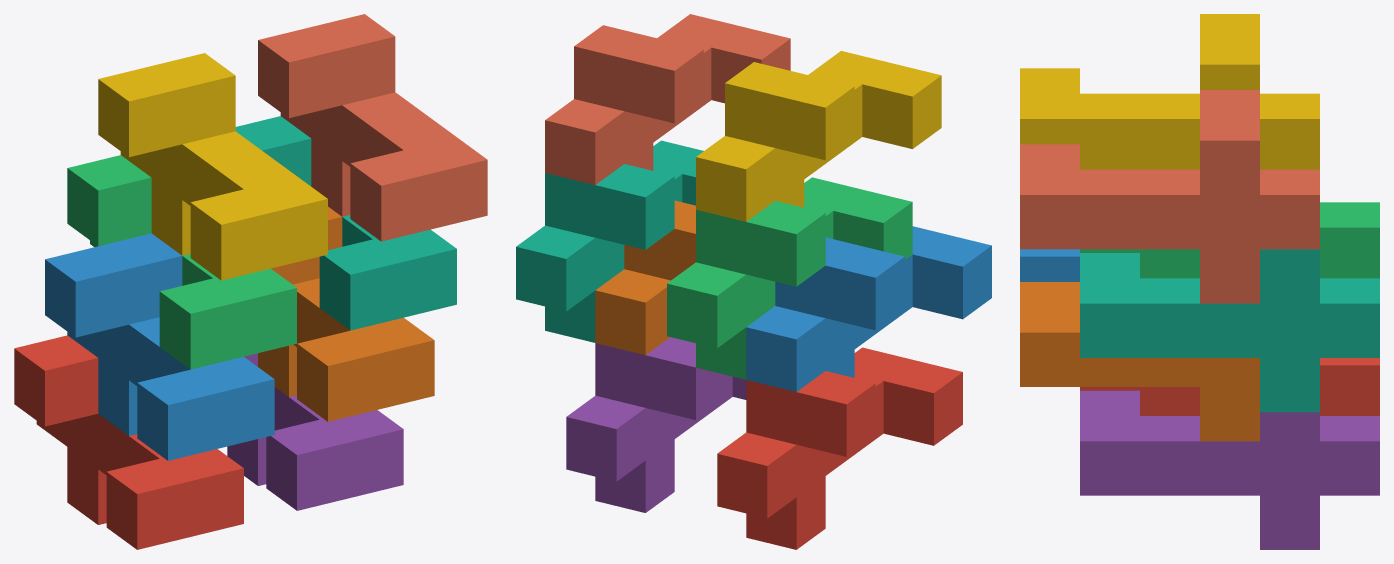
File: tiling.obj
3 renders of one model, left to right at view 1: azimuth 30°, elevation 25°; view 2: azimuth 150°, elevation 25°; view 3: azimuth 270°, elevation 25°, orthographic. The views are drawn at different scales.
Parts seen in each view (by area): view 1: copy_1_domain_4, copy_1_domain_8, copy_1_domain_2, copy_1_domain_1, copy_1_domain_3, copy_1_domain_6, copy_1_domain_7, copy_1_domain_5; view 2: copy_1_domain_1, copy_1_domain_4, copy_1_domain_8, copy_1_domain_3, copy_1_domain_2, copy_1_domain_7, copy_1_domain_5, copy_1_domain_6; view 3: copy_1_domain_8, copy_1_domain_7, copy_1_domain_5, copy_1_domain_4, copy_1_domain_6, copy_1_domain_3, copy_1_domain_1, copy_1_domain_2.
Boxes of the visible parts, x1,y1,x2,y2 form: copy_1_domain_4: [98, 53, 327, 280]; copy_1_domain_8: [258, 14, 487, 241]; copy_1_domain_2: [45, 233, 274, 460]; copy_1_domain_1: [14, 335, 243, 549]; copy_1_domain_3: [67, 155, 296, 369]; copy_1_domain_6: [258, 206, 434, 421]; copy_1_domain_7: [235, 116, 456, 330]; copy_1_domain_5: [227, 353, 403, 510]; copy_1_domain_1: [717, 347, 962, 549]; copy_1_domain_4: [696, 51, 941, 221]; copy_1_domain_8: [545, 14, 790, 184]; copy_1_domain_3: [667, 177, 912, 379]; copy_1_domain_2: [746, 226, 991, 391]; copy_1_domain_7: [516, 140, 703, 342]; copy_1_domain_5: [566, 337, 746, 512]; copy_1_domain_6: [595, 200, 695, 355]; copy_1_domain_8: [1020, 90, 1319, 303]; copy_1_domain_7: [1080, 249, 1379, 412]; copy_1_domain_5: [1080, 390, 1379, 549]; copy_1_domain_4: [1020, 14, 1319, 169]; copy_1_domain_6: [1020, 282, 1259, 441]; copy_1_domain_3: [1080, 202, 1379, 278]; copy_1_domain_1: [1080, 358, 1379, 415]; copy_1_domain_2: [1020, 249, 1079, 281].
Size of the model in its own units: 6 by 8 by 6.
